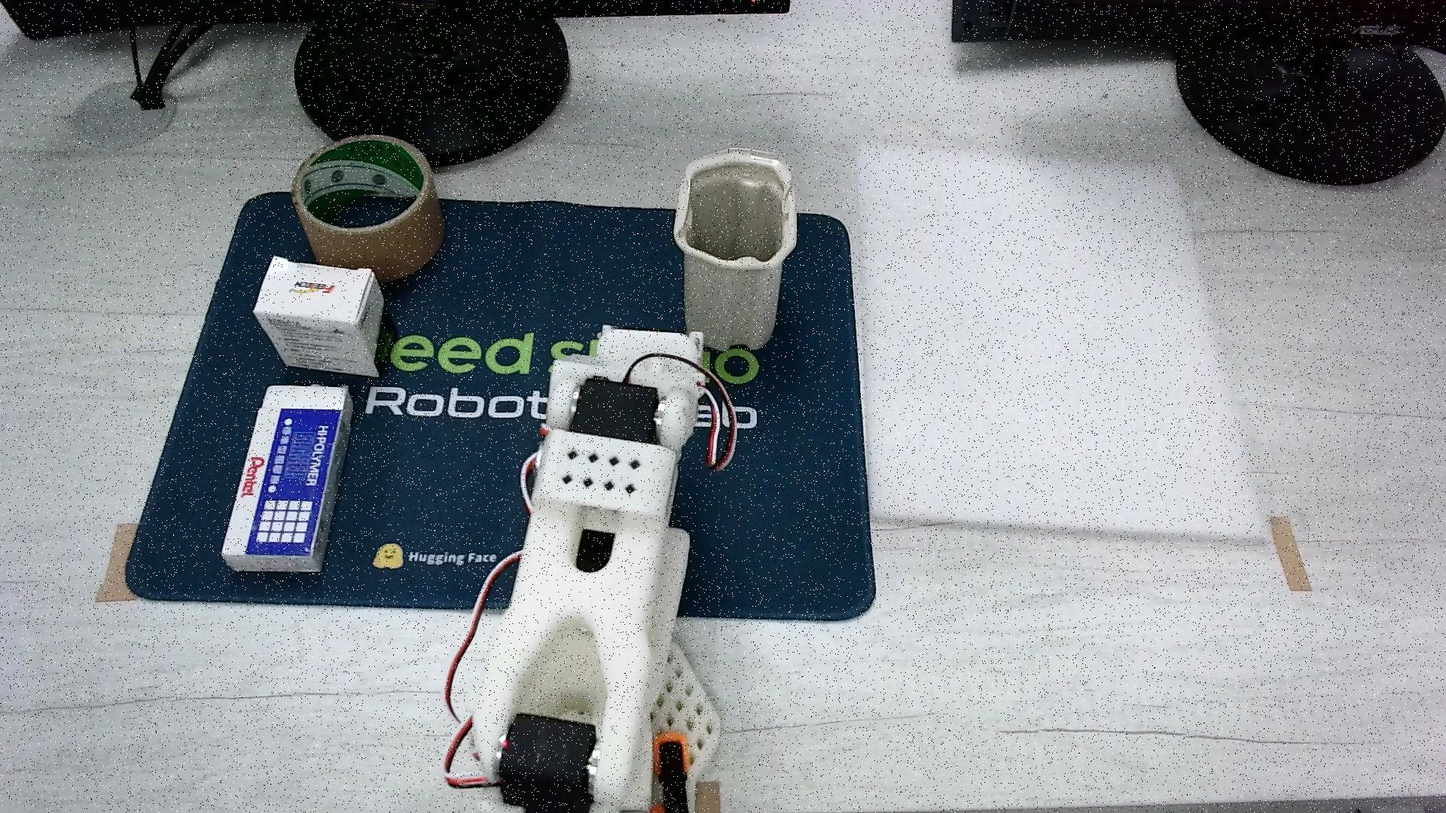eraser: (253, 256, 392, 376)
